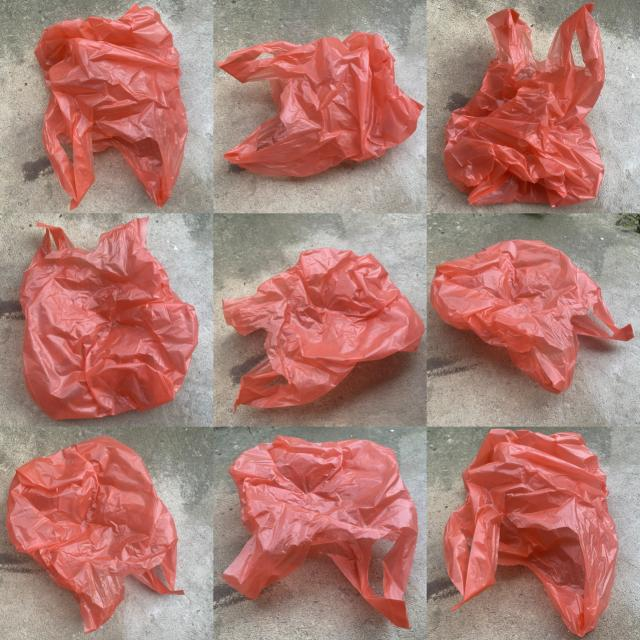Single-layer Plastic: (222, 435, 418, 629), (444, 429, 618, 636), (20, 218, 199, 419), (6, 436, 184, 632), (444, 4, 605, 208), (222, 248, 424, 409), (430, 240, 634, 394), (35, 4, 188, 208), (218, 31, 422, 176)
